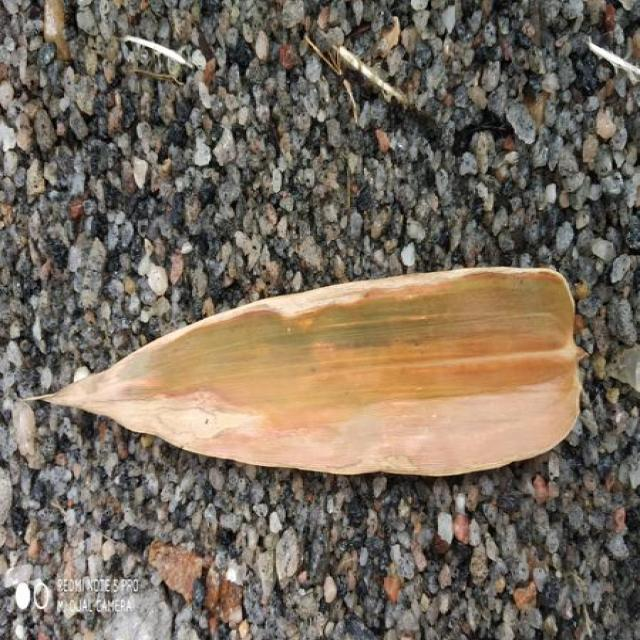Bamboo: (3, 300, 638, 580), (42, 269, 582, 476)
defectedBamboo: (28, 268, 583, 476)
